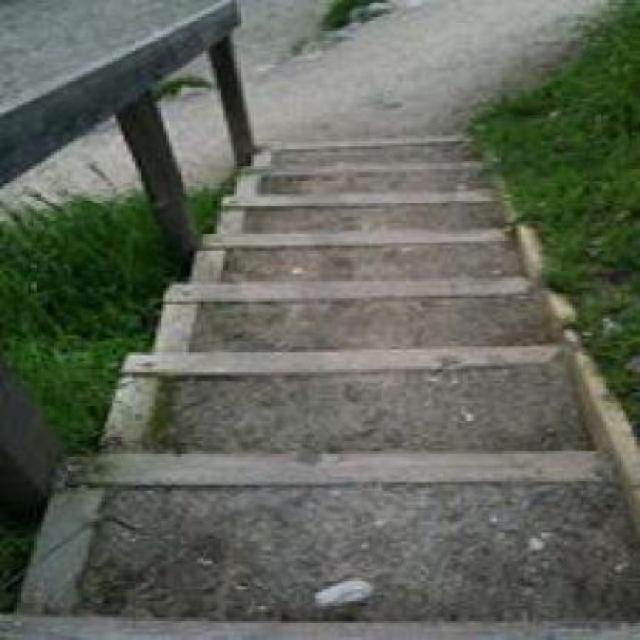stair: (42, 365, 525, 638)
